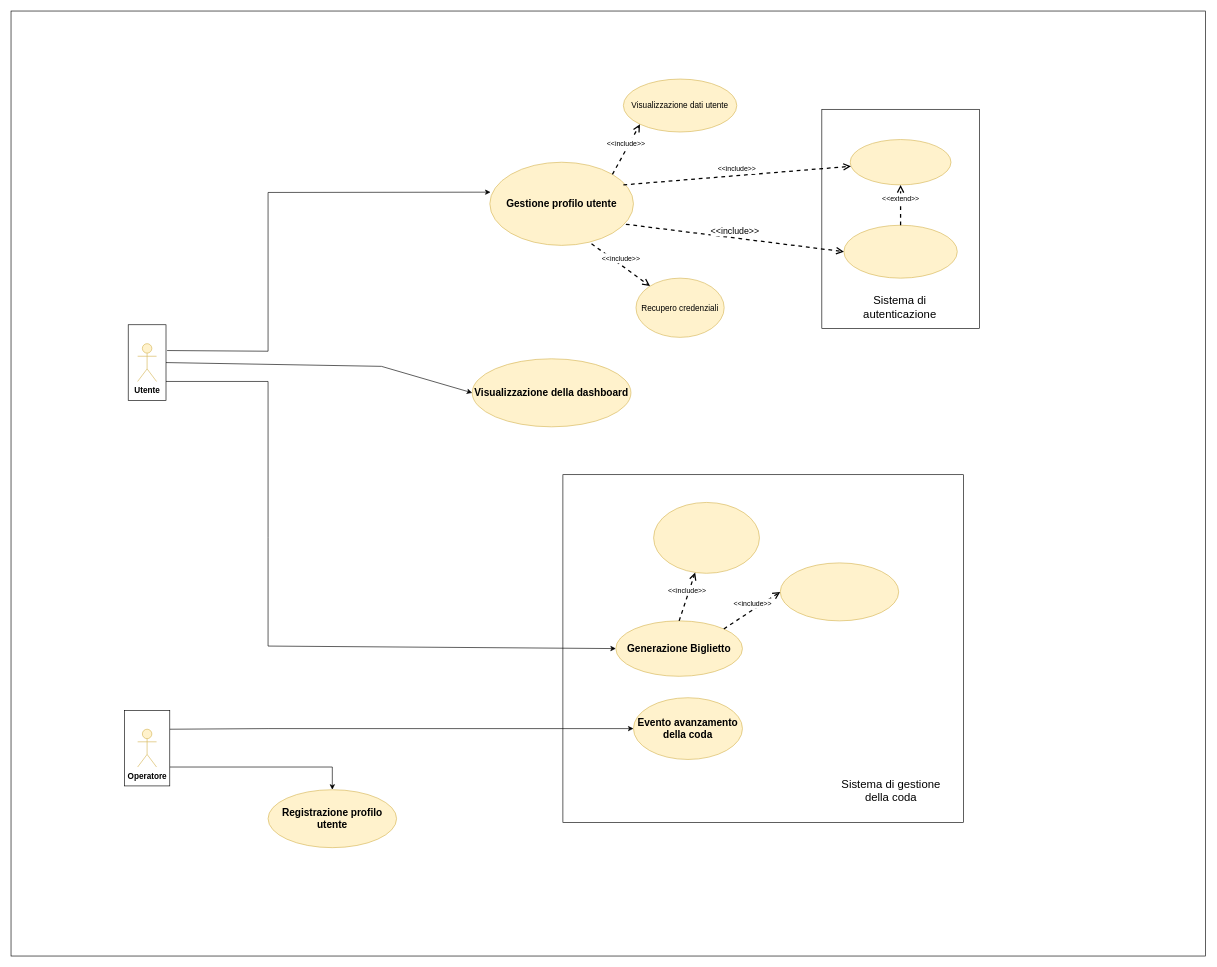
Some shapes in this 1217 by 967 pixel diagram are drawn without their labels. The shapes that lost their labels are listed below. From the top down, each one's box as (x1, y1, x2, y2) in pixels, then its label:
(850, 139, 951, 185): Logout
(843, 225, 957, 278): UC4 Login
(653, 502, 759, 573): Generazione Biglietto Digitale/Prioritario
(780, 562, 899, 621): Generazione Biglietto Prioritario
